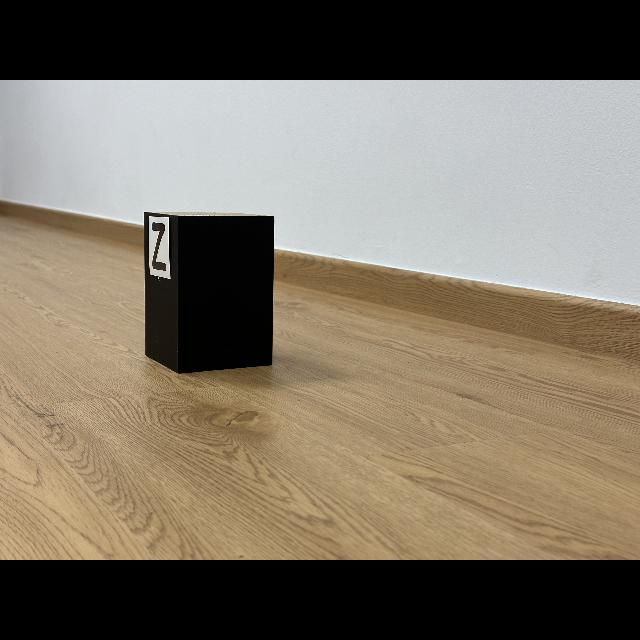Z: (152, 222, 166, 271)
